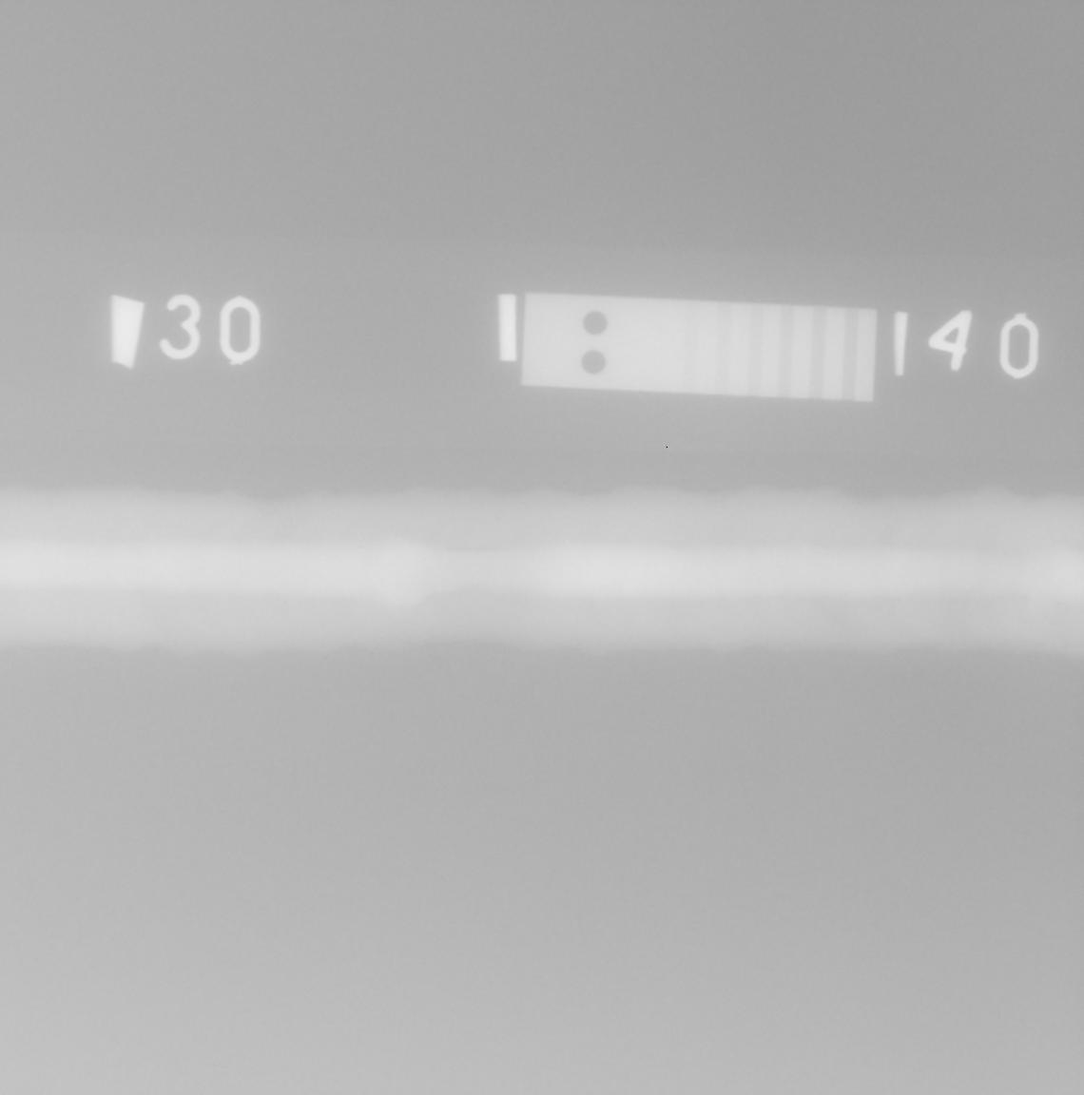Lack of Fusion: (447, 546, 499, 552)
Reference Standard 2: (521, 293, 877, 402)
